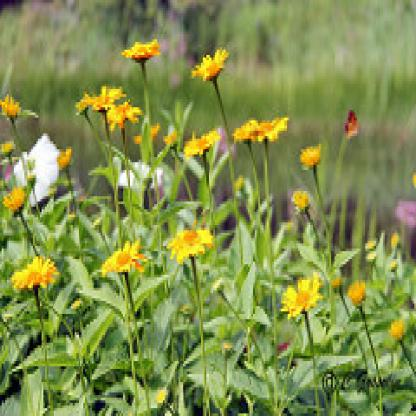ASTER: (7, 27, 402, 399)
